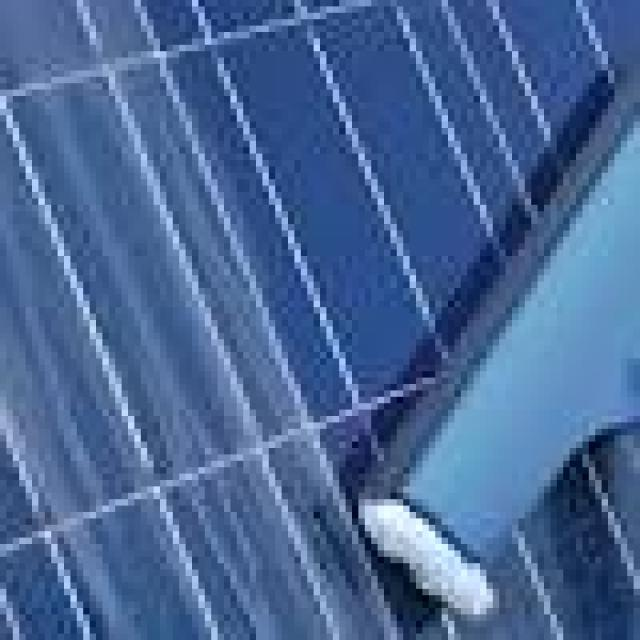clean-solar-panel: (138, 0, 640, 640)
dust-solar-panel: (0, 0, 312, 640)
